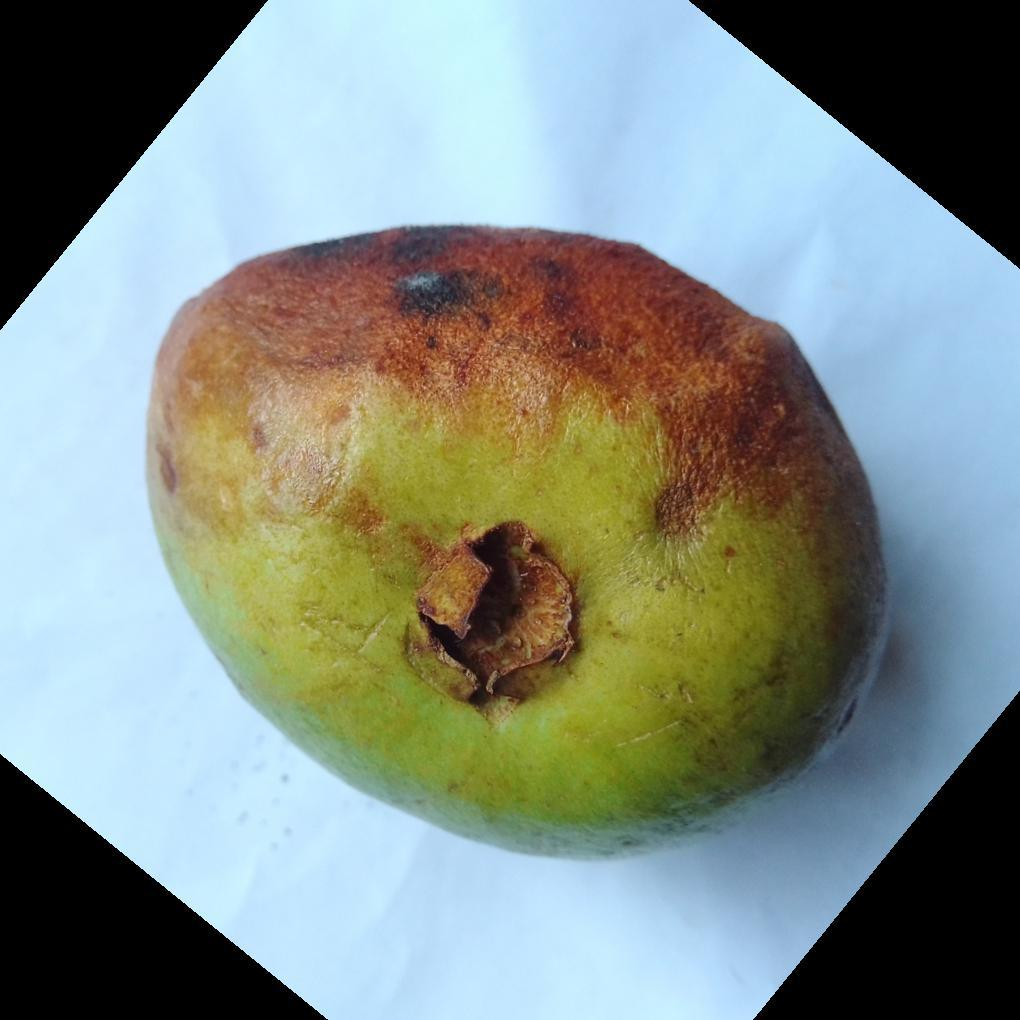FreshOrange: (143, 226, 891, 862)
